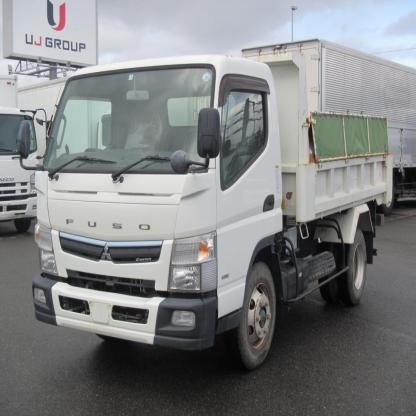truck: (18, 47, 394, 374)
